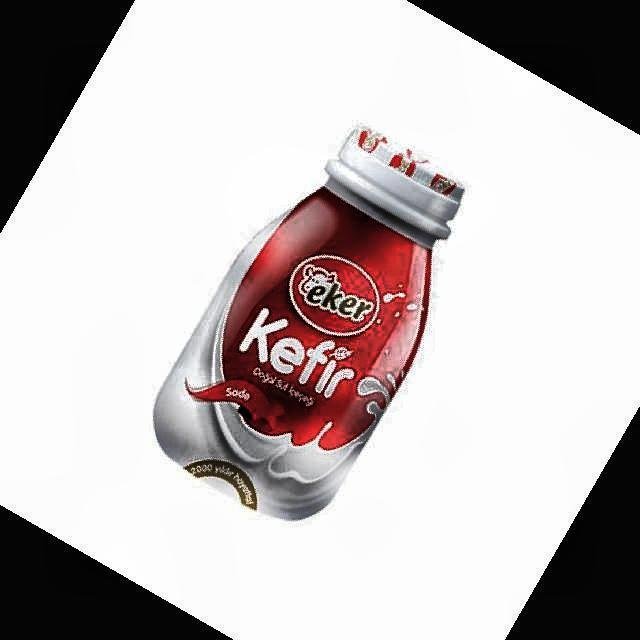plastic: (154, 128, 464, 519)
